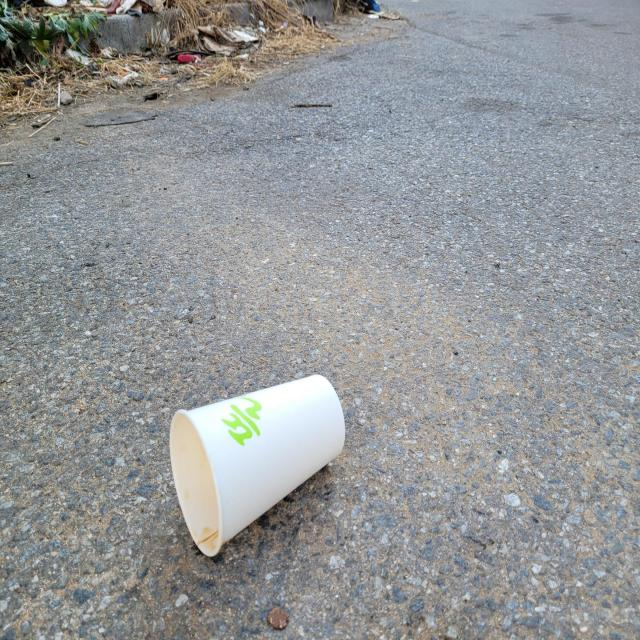paperpack: (169, 376, 345, 557)
